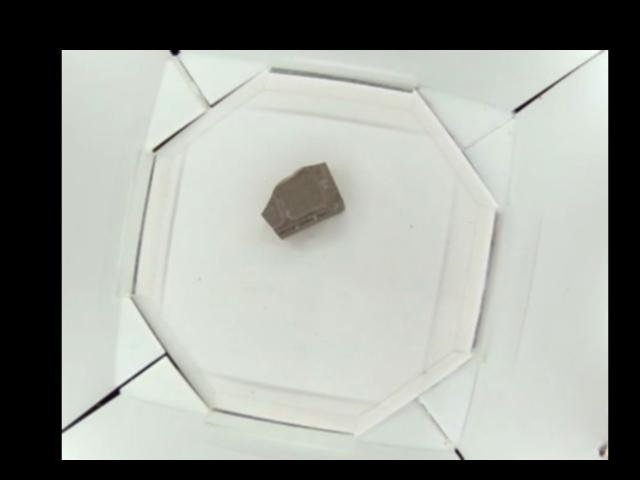China: (262, 161, 345, 239)
